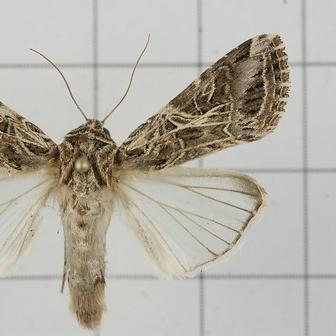Spodoptera litura: (1, 34, 292, 330)
